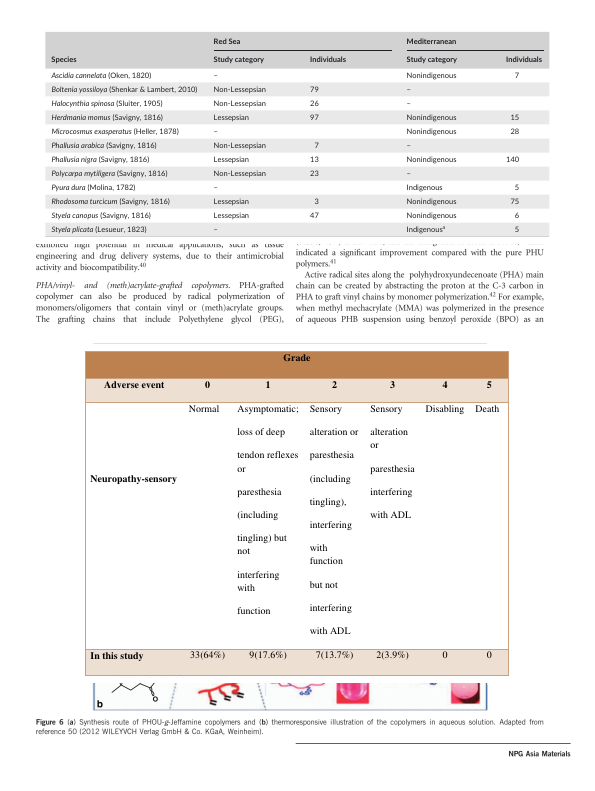bordered: (84, 350, 508, 675)
borderless: (43, 31, 550, 238)
cell: (236, 402, 300, 617), (309, 402, 359, 637), (369, 402, 416, 521), (50, 84, 197, 96), (50, 126, 179, 138), (50, 196, 170, 208), (50, 168, 168, 180), (50, 98, 163, 110), (50, 112, 163, 124), (50, 140, 157, 152), (89, 471, 178, 485), (50, 70, 151, 82), (50, 210, 151, 222), (50, 154, 149, 166), (50, 224, 147, 236), (50, 182, 135, 194), (103, 377, 165, 391), (89, 648, 145, 661), (405, 35, 456, 48), (212, 84, 266, 96), (212, 98, 266, 110), (212, 140, 266, 152), (212, 168, 266, 180), (212, 54, 264, 66), (405, 54, 457, 66), (405, 70, 457, 82), (405, 112, 457, 124), (405, 126, 457, 138), (405, 154, 457, 166), (405, 196, 457, 208), (405, 210, 457, 222), (425, 402, 465, 415), (248, 648, 288, 661), (405, 223, 445, 236), (315, 648, 354, 661), (189, 648, 226, 661), (405, 182, 443, 194), (375, 648, 410, 661), (212, 112, 249, 124), (212, 154, 249, 166), (212, 196, 249, 208), (212, 210, 249, 222), (188, 402, 220, 415), (282, 350, 311, 364), (212, 35, 241, 48), (474, 402, 500, 415), (50, 54, 77, 66), (308, 56, 346, 64), (504, 56, 542, 64), (308, 84, 319, 96), (308, 98, 319, 110), (308, 112, 319, 124), (504, 157, 519, 164), (204, 377, 211, 391), (265, 377, 272, 391), (331, 377, 338, 391), (389, 377, 396, 391), (441, 377, 448, 391), (486, 377, 493, 391), (441, 648, 448, 661), (486, 648, 493, 661), (308, 157, 319, 164), (308, 171, 319, 178), (308, 213, 319, 220), (513, 210, 519, 222), (509, 115, 519, 122), (509, 129, 519, 136), (509, 199, 519, 206), (212, 73, 218, 80), (513, 73, 519, 80), (405, 87, 411, 94), (405, 101, 411, 108), (212, 129, 218, 136), (313, 143, 319, 150), (405, 143, 411, 150), (405, 171, 411, 178), (212, 185, 218, 192), (513, 185, 519, 192), (313, 199, 319, 206), (212, 227, 218, 234), (513, 227, 519, 234)
